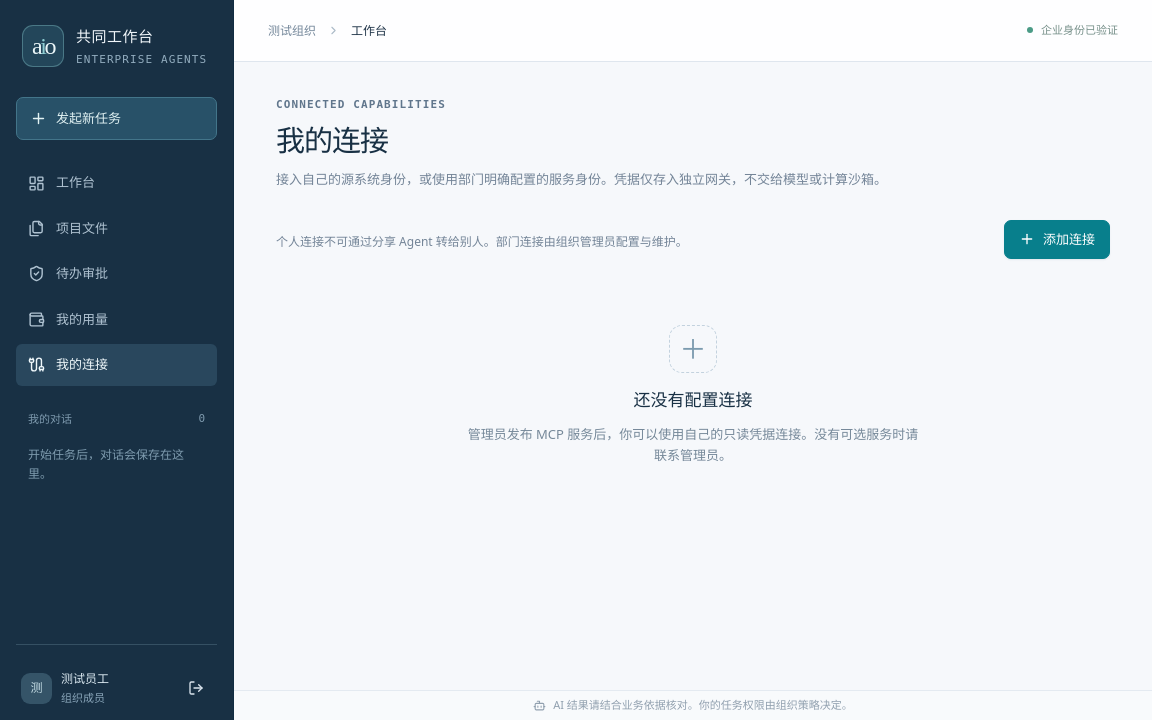
Test: ordinary users create only personal connections to a fixed approved destination
This screenshot has width=1152, height=720.
Click the button "添加连接". click: (1057, 239)
box: [1004, 220, 1110, 258]
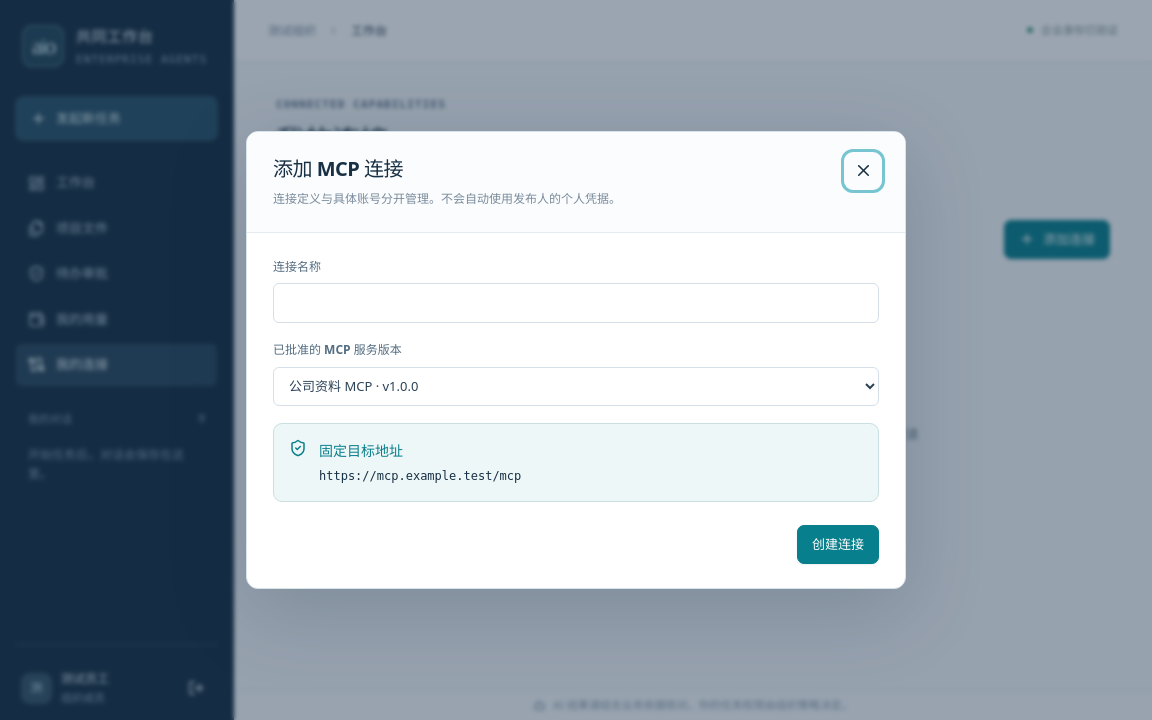
Type "我的资料账号" into the field labelled "连接名称". click: (576, 303)
box: [273, 283, 879, 323]
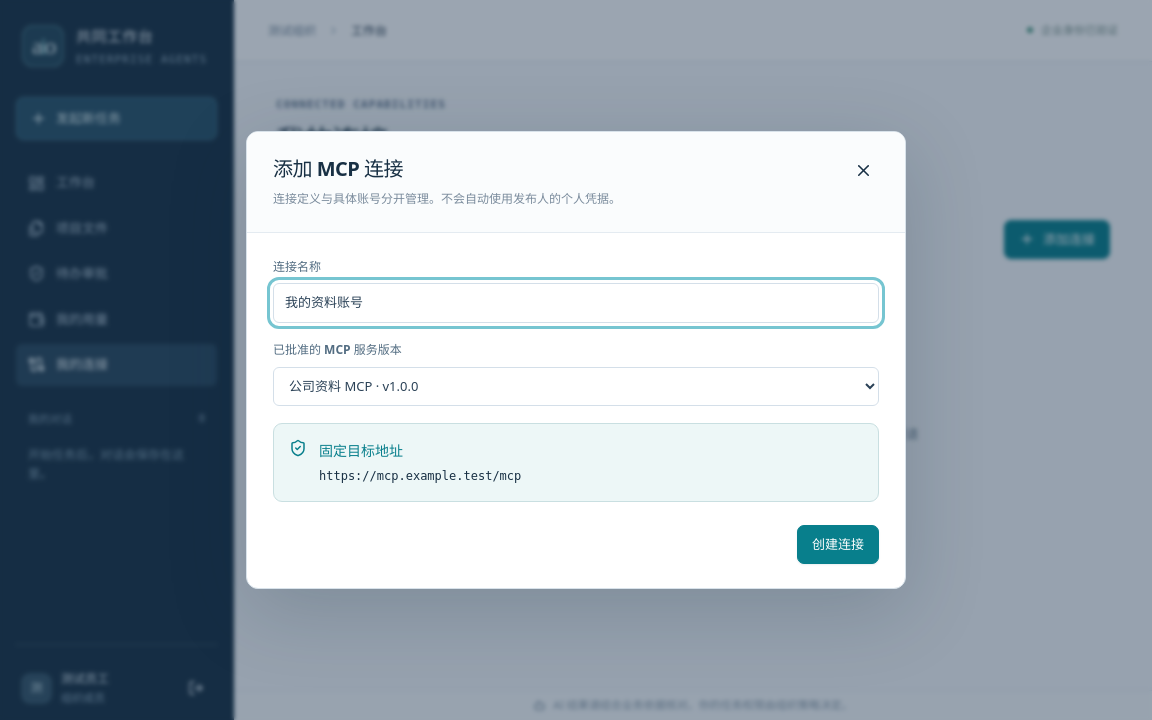
Click the button "创建连接". click: (838, 545)
box: [797, 525, 879, 564]
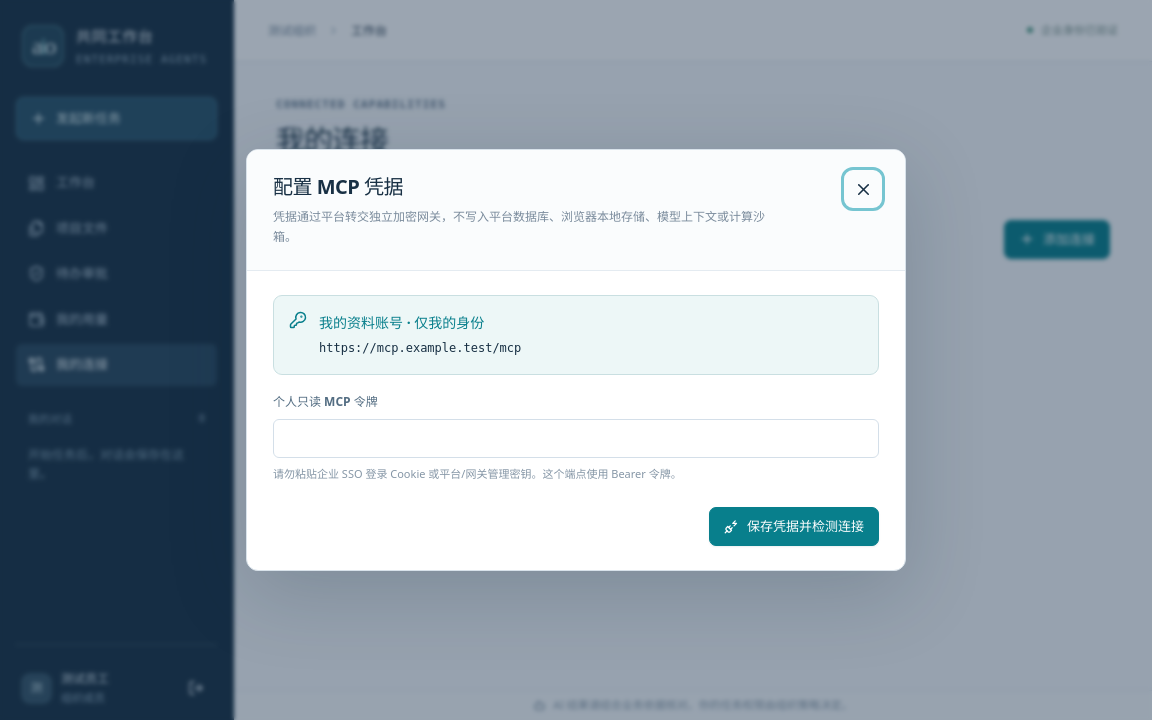
Expected: the dialog "配置 MCP 凭据" is shown, [246, 149, 906, 571]
